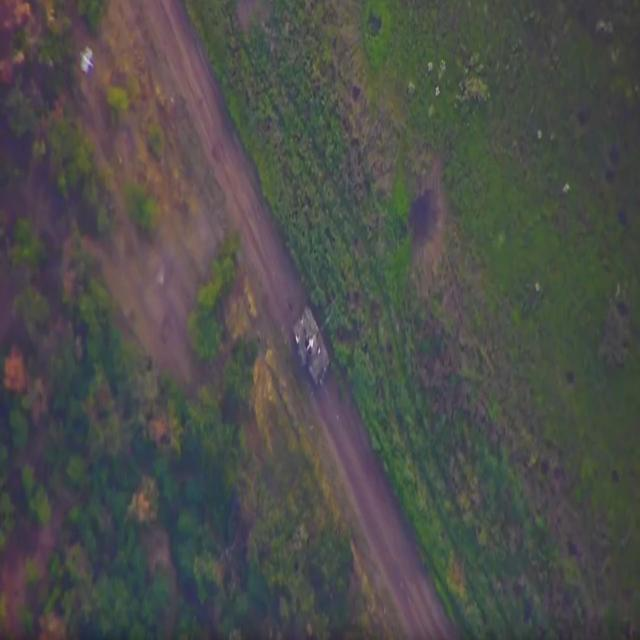MBT: (293, 297, 344, 393)
